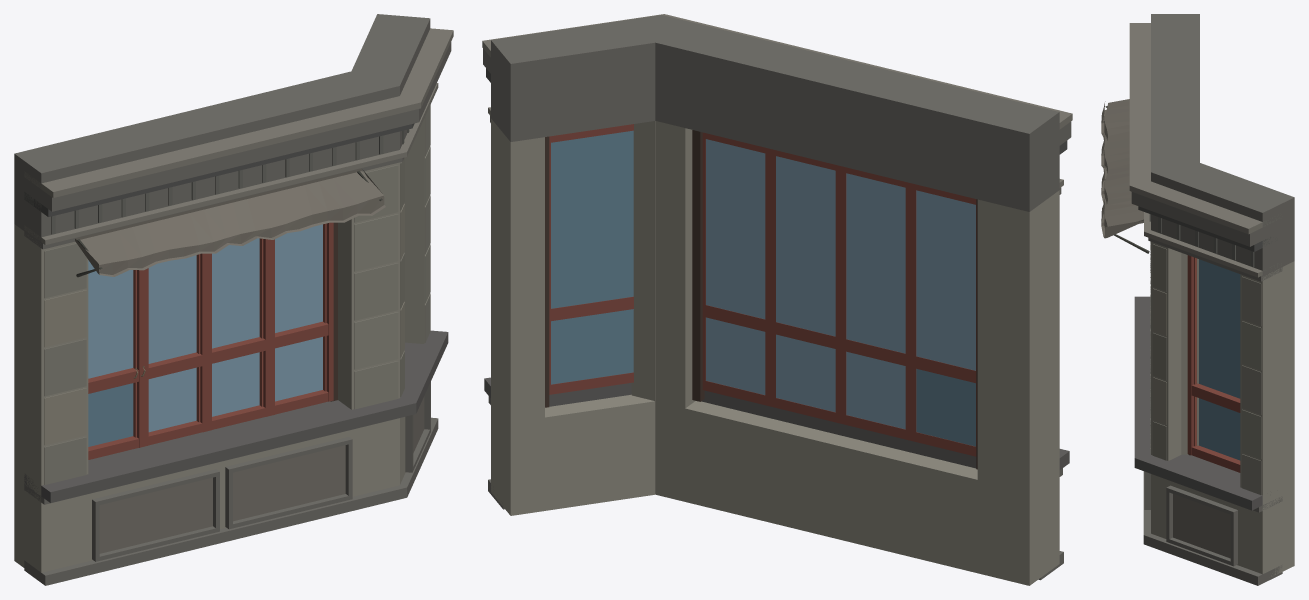
Rendered from jingan-xiudeli-41-canted-bay-awning-lod.glb.
3 views of the same model, side by side, from view 1: azimuth 30°, elevation 25°; view 2: azimuth 150°, elevation 25°; view 3: azimuth 270°, elevation 25° (orthographic). The views are drawn at different scales.
Visible parts, largest first — view 1: 修德里41号住宅四联木窗、斜角窗与波齿雨篷; view 2: 修德里41号住宅四联木窗、斜角窗与波齿雨篷; view 3: 修德里41号住宅四联木窗、斜角窗与波齿雨篷.
Boxes of the visible parts, x1,y1,x2,y2 form: 修德里41号住宅四联木窗、斜角窗与波齿雨篷: (14,14,453,585); 修德里41号住宅四联木窗、斜角窗与波齿雨篷: (482,14,1072,585); 修德里41号住宅四联木窗、斜角窗与波齿雨篷: (1101,14,1294,585).
Size of the model in its own units: 3.19 by 2.68 by 1.26.
